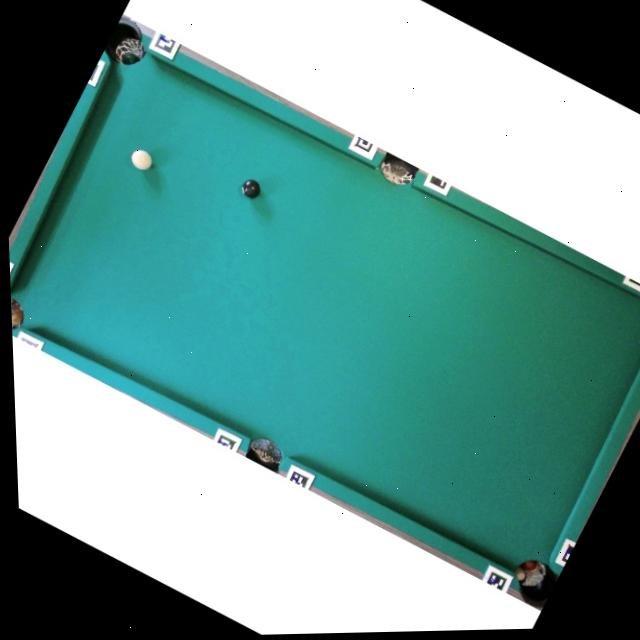cue ball: (126, 146, 157, 175)
other: (238, 176, 265, 202)
